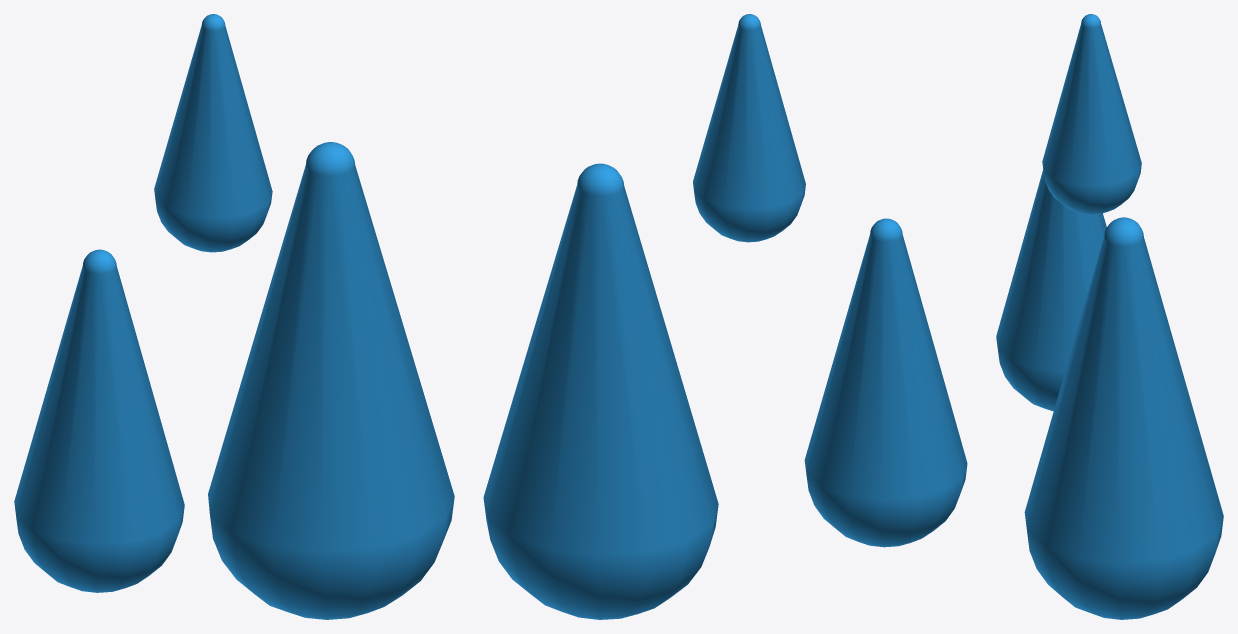
The model's file is HighHumid.glb.
The picture shows the model from 3 angles, left to right: view 1: azimuth 30°, elevation 25°; view 2: azimuth 150°, elevation 25°; view 3: azimuth 270°, elevation 25°; orthographic projection. The views are drawn at different scales.
Visible parts, largest first — view 1: mesh_id117, mesh_id111, mesh_id110; view 2: mesh_id117, mesh_id111, mesh_id110; view 3: mesh_id117, mesh_id111, mesh_id110.
Boxes of the visible parts, x1,y1,x2,y2 form: mesh_id117: [208, 142, 454, 619]; mesh_id111: [14, 249, 184, 592]; mesh_id110: [154, 14, 272, 252]; mesh_id117: [483, 163, 718, 619]; mesh_id111: [804, 218, 967, 547]; mesh_id110: [693, 14, 805, 242]; mesh_id117: [1024, 217, 1223, 619]; mesh_id111: [996, 169, 1106, 411]; mesh_id110: [1042, 14, 1141, 214].
Size of the model in its own units: 0.2596 by 0.3559 by 0.1363.
3 materials, 3 textured.
